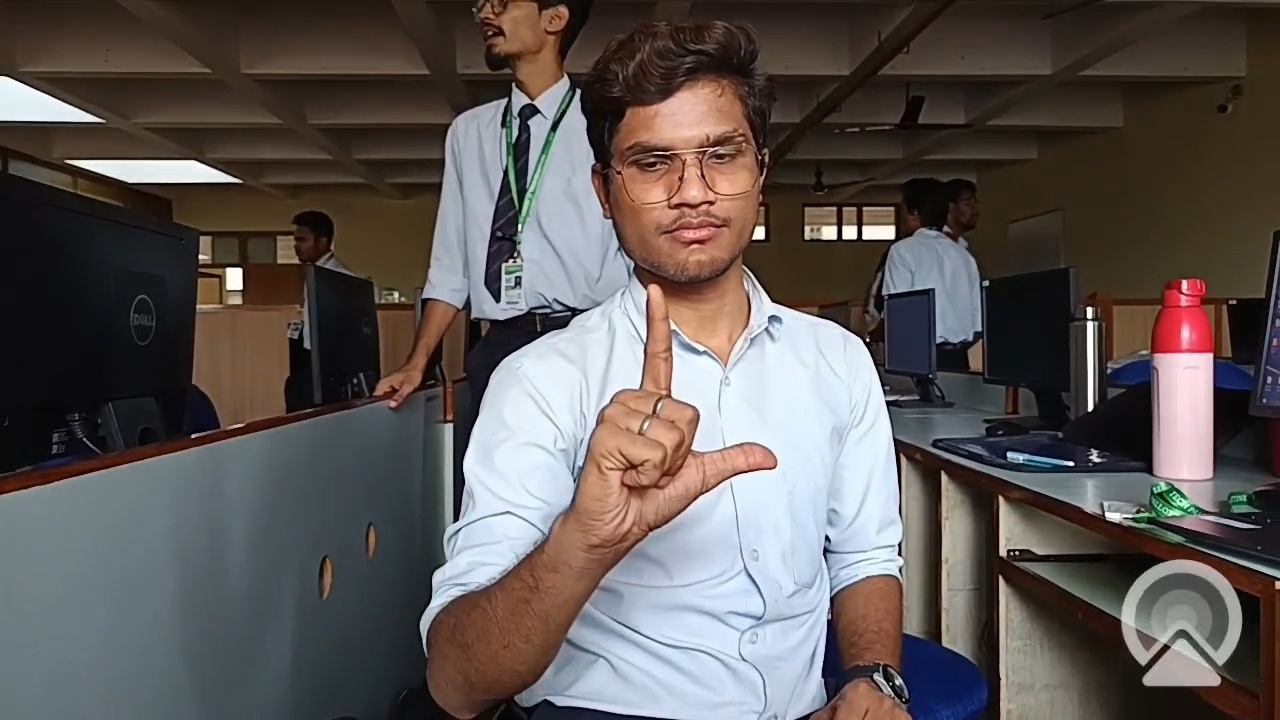L: (548, 282, 833, 585)
